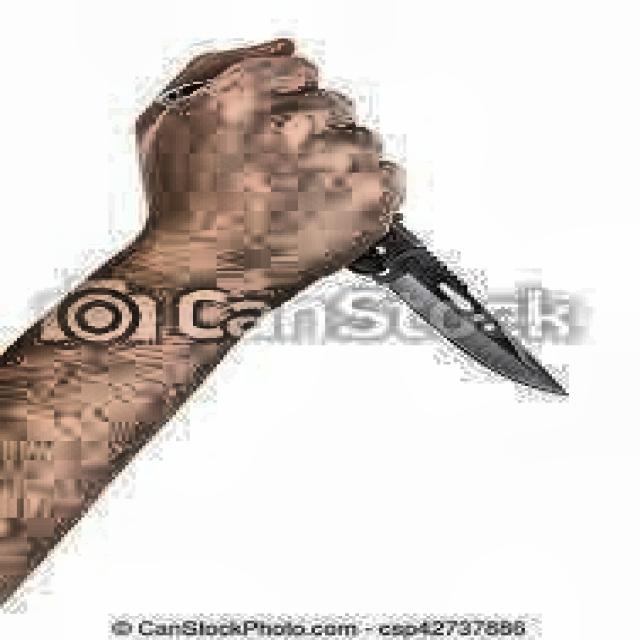knife: (162, 79, 570, 399)
